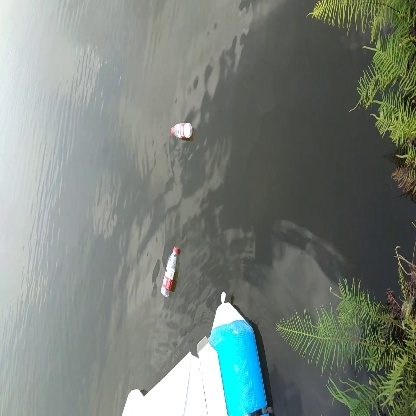bottle: (161, 245, 181, 301), (168, 123, 196, 139)
